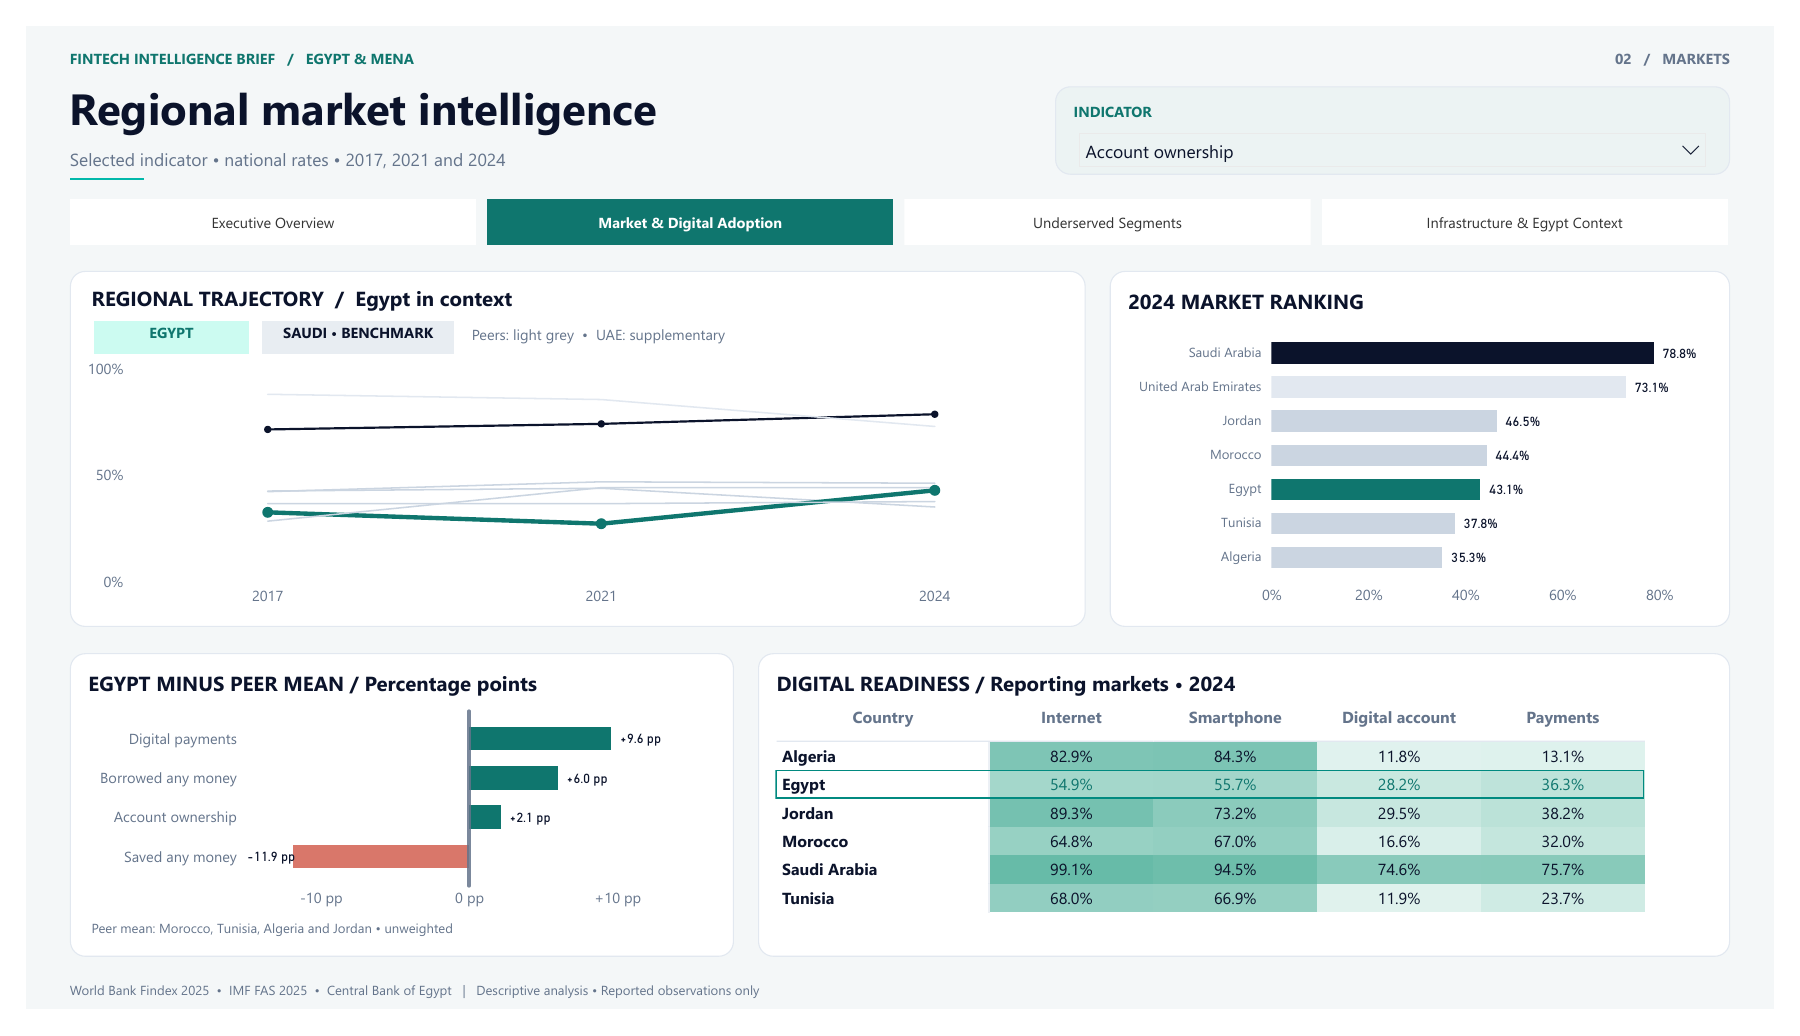

The page's visual inventory and layout, read from the dashboard file:
{"tool":"powerbi","page":{"name":"Market & Digital Adoption","canvas":[1600,900],"ordinal":1},"visuals":[{"type":"textbox","box":[40,20,970,26],"z":32},{"type":"textbox","box":[1260,20,300,26],"z":33},{"type":"textbox","box":[40,48,850,60],"z":34},{"type":"textbox","box":[40,111,850,30],"z":35},{"type":"shape","box":[40,139,68,2],"z":36},{"type":"pageNavigator","box":[40,158,1520,42],"z":37},{"type":"textbox","box":[40,872,1450,24],"z":38},{"type":"slicer","title":"INDICATOR","fields":{"Values":["Dim Findex Indicator.label"]},"box":[942,55,618,81],"z":39},{"type":"textbox","box":[40,224,930,326],"z":39.5},{"type":"lineChart","fields":{"Category":["Findex Market Trends.year"],"Series":["Findex Market Trends.country"],"Y":["KPI Measures.Market Rate"]},"box":[56,304,898,232],"z":40},{"type":"textbox","box":[62,270,142,30],"z":41},{"type":"textbox","box":[216,270,176,30],"z":42},{"type":"textbox","box":[408,273,526,27],"z":43},{"type":"clusteredBarChart","title":"2024 MARKET RANKING","fields":{"Category":["Findex Market Trends.country"],"Y":["KPI Measures.Market Rate"]},"box":[992,224,568,326],"z":44},{"type":"clusteredBarChart","title":"EGYPT MINUS PEER MEAN  /  Percentage points","fields":{"Category":["Egypt Peer Comparison.Indicator"],"Y":["KPI Measures.Peer Difference"]},"box":[40,574,608,278],"z":45},{"type":"textbox","box":[60,816,570,27],"z":46},{"type":"pivotTable","title":"DIGITAL READINESS  /  Reporting markets • 2024","fields":{"Rows":["Digital Readiness.country"],"Values":["KPI Measures.Internet Use","KPI Measures.Smartphone Ownership","KPI Measures.Digitally Enabled Account","KPI Measures.Digital Payment Usage"]},"box":[670,574,890,278],"z":47},{"type":"textbox","box":[60,237,875,30],"z":98},{"type":"shape","box":[686,681,795,26],"z":101}]}

Visuals, with their boxes in screenshot pixels (x1, y1, x2, y2), scaled from the page's 1600x900 canvas onto the 1800x1036 screenshot:
textbox: {"left": 45, "top": 23, "right": 1136, "bottom": 53}
textbox: {"left": 1418, "top": 23, "right": 1755, "bottom": 53}
textbox: {"left": 45, "top": 55, "right": 1001, "bottom": 124}
textbox: {"left": 45, "top": 128, "right": 1001, "bottom": 162}
shape: {"left": 45, "top": 160, "right": 122, "bottom": 162}
pageNavigator: {"left": 45, "top": 182, "right": 1755, "bottom": 230}
textbox: {"left": 45, "top": 1004, "right": 1676, "bottom": 1031}
"INDICATOR" slicer: {"left": 1060, "top": 63, "right": 1755, "bottom": 157}
textbox: {"left": 45, "top": 258, "right": 1091, "bottom": 633}
lineChart - Findex Market Trends.year x Findex Market Trends.country: {"left": 63, "top": 350, "right": 1073, "bottom": 617}
textbox: {"left": 70, "top": 311, "right": 230, "bottom": 345}
textbox: {"left": 243, "top": 311, "right": 441, "bottom": 345}
textbox: {"left": 459, "top": 314, "right": 1051, "bottom": 345}
"2024 MARKET RANKING" clusteredBarChart: {"left": 1116, "top": 258, "right": 1755, "bottom": 633}
"EGYPT MINUS PEER MEAN  /  Percentage points" clusteredBarChart: {"left": 45, "top": 661, "right": 729, "bottom": 981}
textbox: {"left": 68, "top": 939, "right": 709, "bottom": 970}
"DIGITAL READINESS  /  Reporting markets • 2024" pivotTable: {"left": 754, "top": 661, "right": 1755, "bottom": 981}
textbox: {"left": 68, "top": 273, "right": 1052, "bottom": 307}
shape: {"left": 772, "top": 784, "right": 1666, "bottom": 814}
